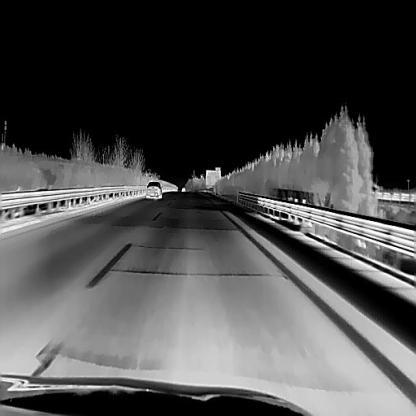car: (146, 180, 161, 199)
